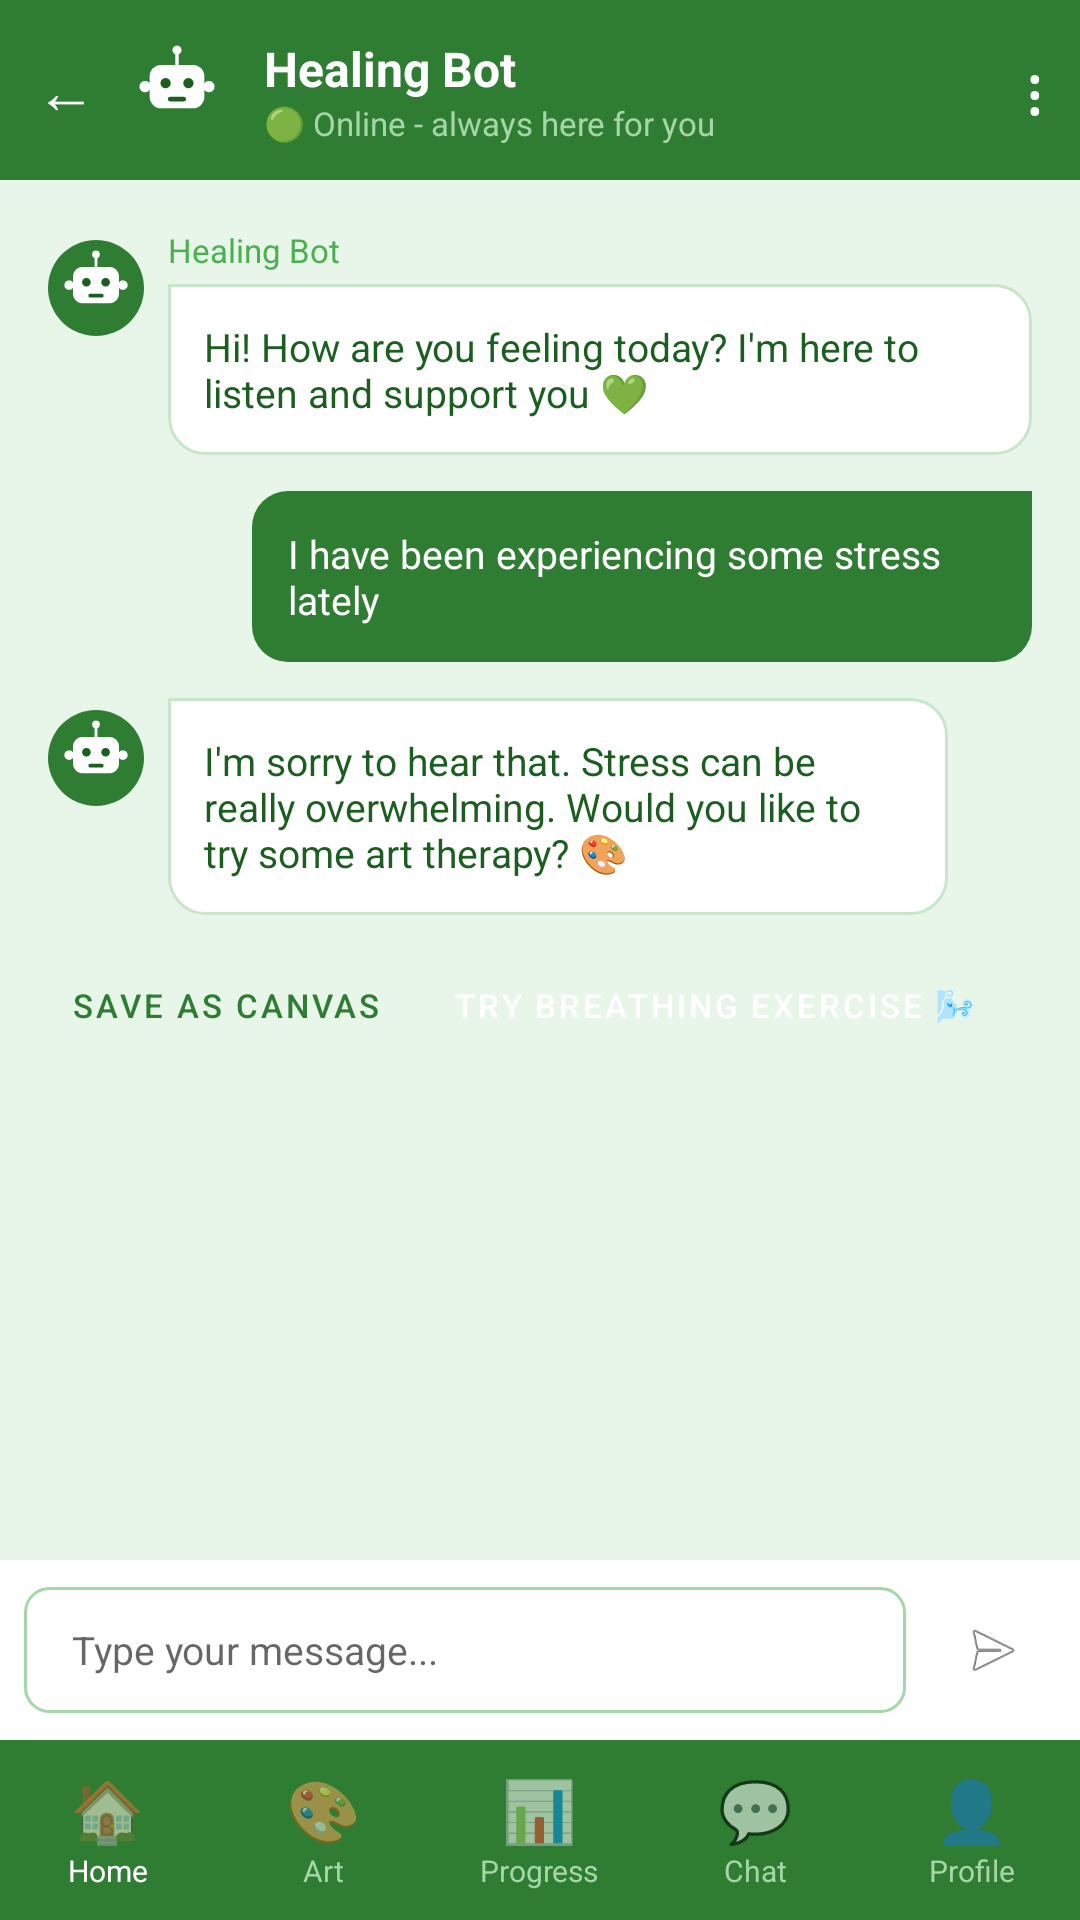

Locate icon controls on the screen. Image size 1080w x 1920h, boxes as (x1, y1, x2, y2).
send: (972, 1629, 1015, 1671)
